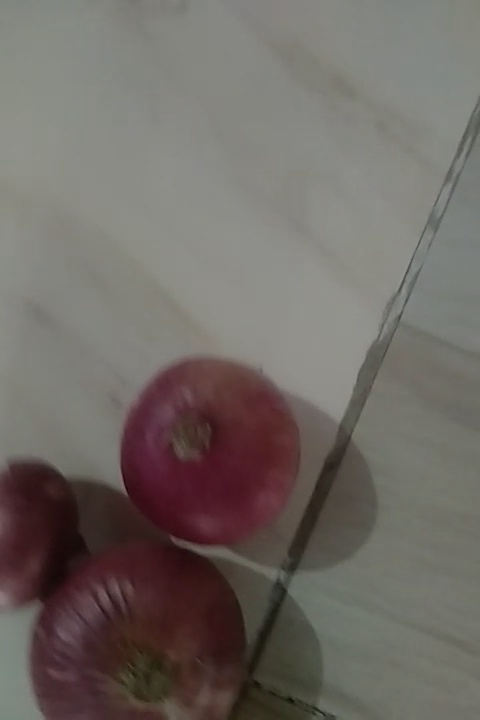onion: (43, 550, 268, 715), (138, 358, 294, 548), (1, 454, 79, 600)
